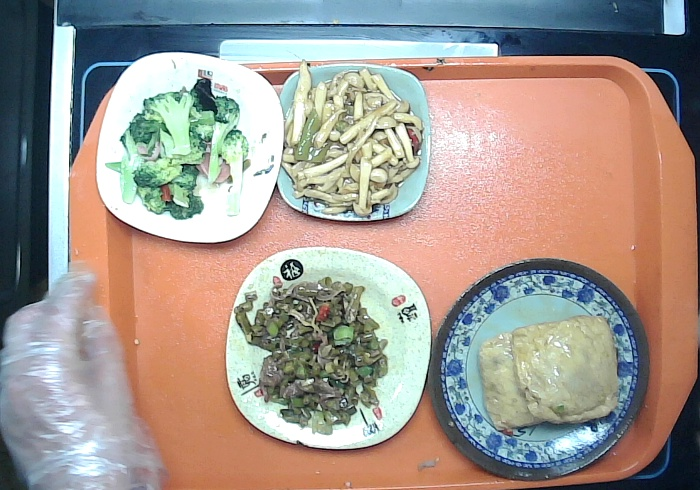NLDX-Bai_Se_Xiao_Fang_Die: (93, 50, 285, 244)
NLDX-Fu_Zi_Fang_Die: (226, 245, 430, 452)
NLDX-Qing_Hua_Xiao_Fang_Die: (275, 63, 431, 222)
NLDX-Qing_Hua_Yuan_Die: (428, 258, 650, 481)
